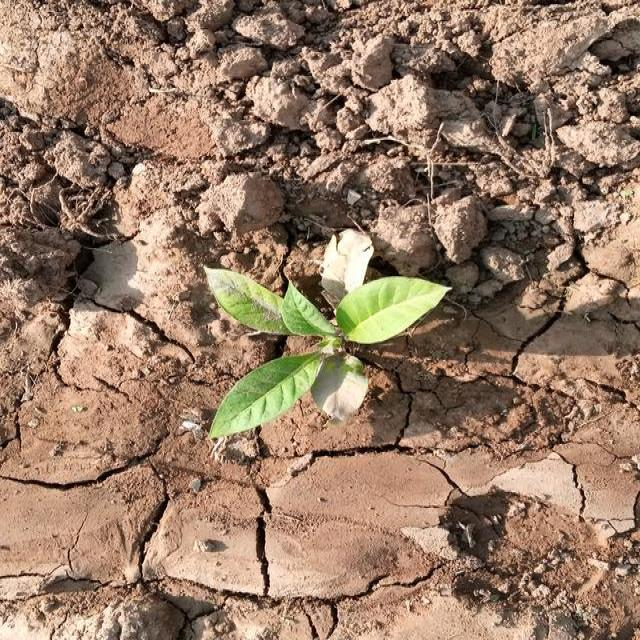crop: (192, 234, 450, 451)
